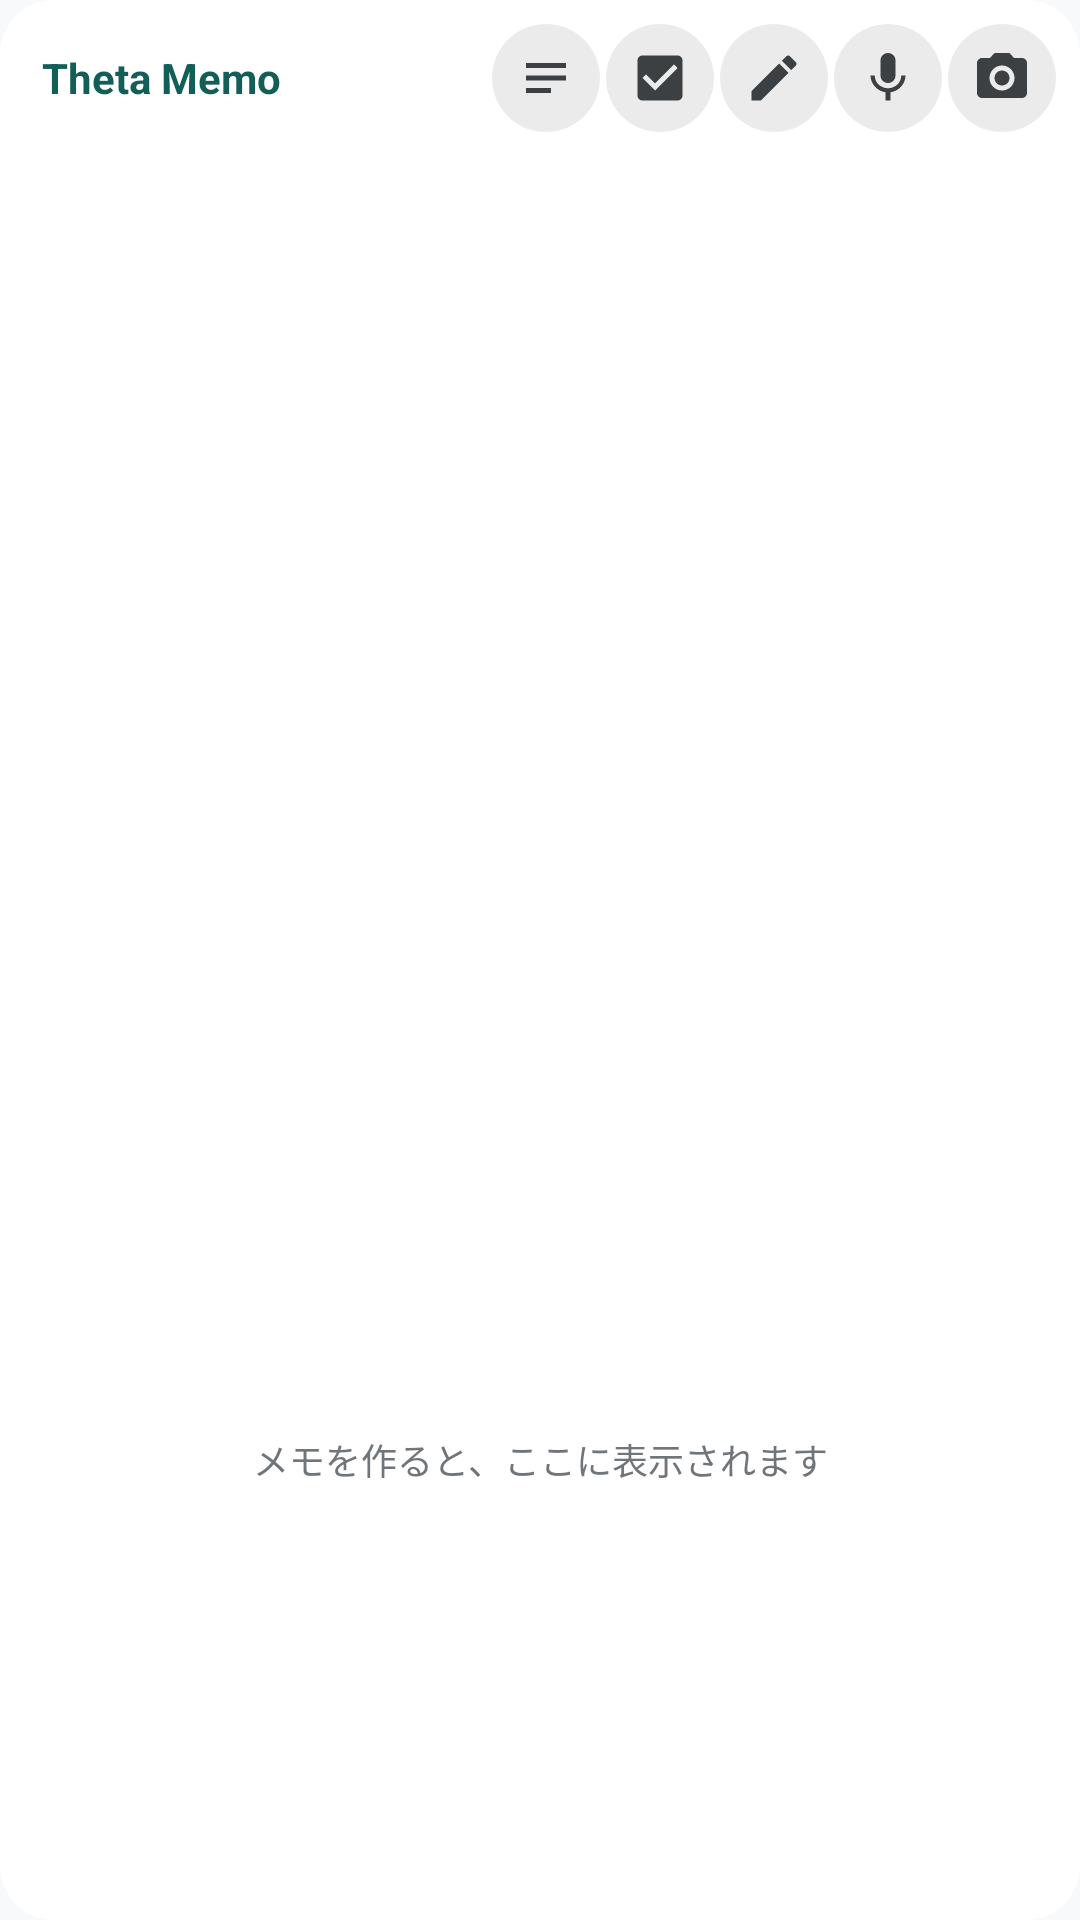

Icon bounding boxes for this 1080 x 1920 phone screenshot, format (left=x1, top=y1, right=x2, bottom=y2):
テキスト: (left=492, top=24, right=600, bottom=132)
リスト: (left=637, top=55, right=683, bottom=101)
写真: (left=977, top=53, right=1027, bottom=98)
手書き: (left=720, top=24, right=828, bottom=132)
音声: (left=834, top=24, right=942, bottom=132)
